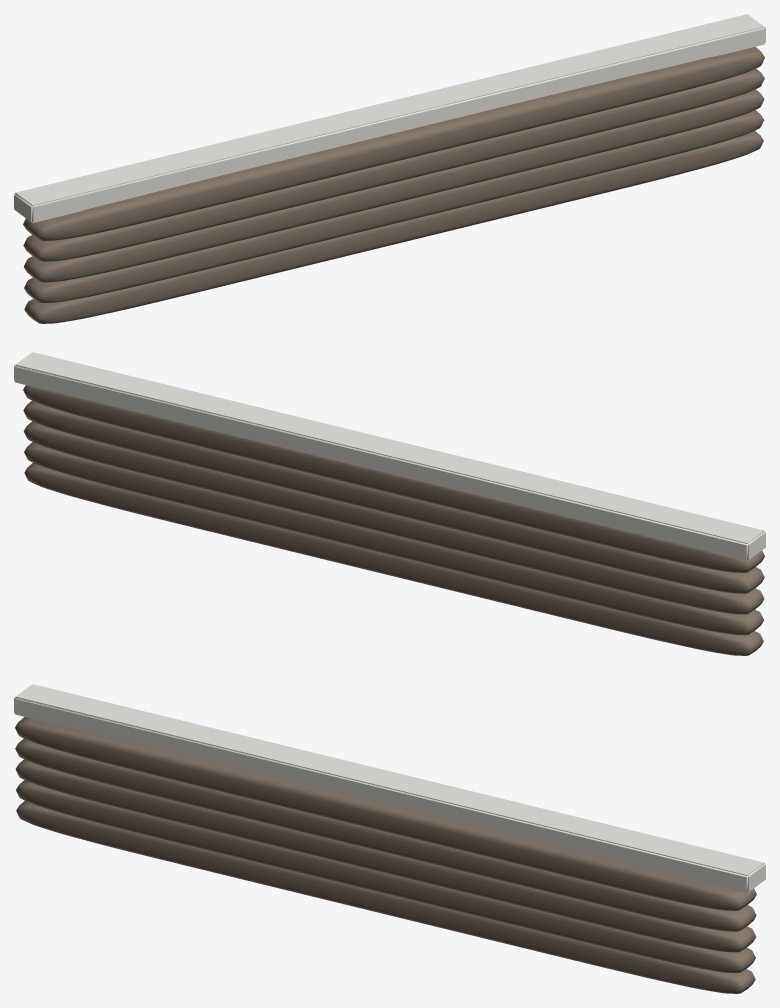
File: industrial.roman_blind.gltf
The picture shows the model from 3 angles, top to bottom: view 1: azimuth 30°, elevation 25°; view 2: azimuth 150°, elevation 25°; view 3: azimuth 330°, elevation 25°; orthographic projection.
Visible parts, largest first — view 1: industrial.roman_blind.headrail; view 2: industrial.roman_blind.headrail; view 3: industrial.roman_blind.headrail.
Part boxes in pixels (<box>): industrial.roman_blind.headrail: <box>14,14,765,323</box>; industrial.roman_blind.headrail: <box>14,352,765,655</box>; industrial.roman_blind.headrail: <box>14,684,765,993</box>.
Bounding box in the file's own units: 1.5 × 0.2449 × 0.09.
2 materials, 1 textured.
